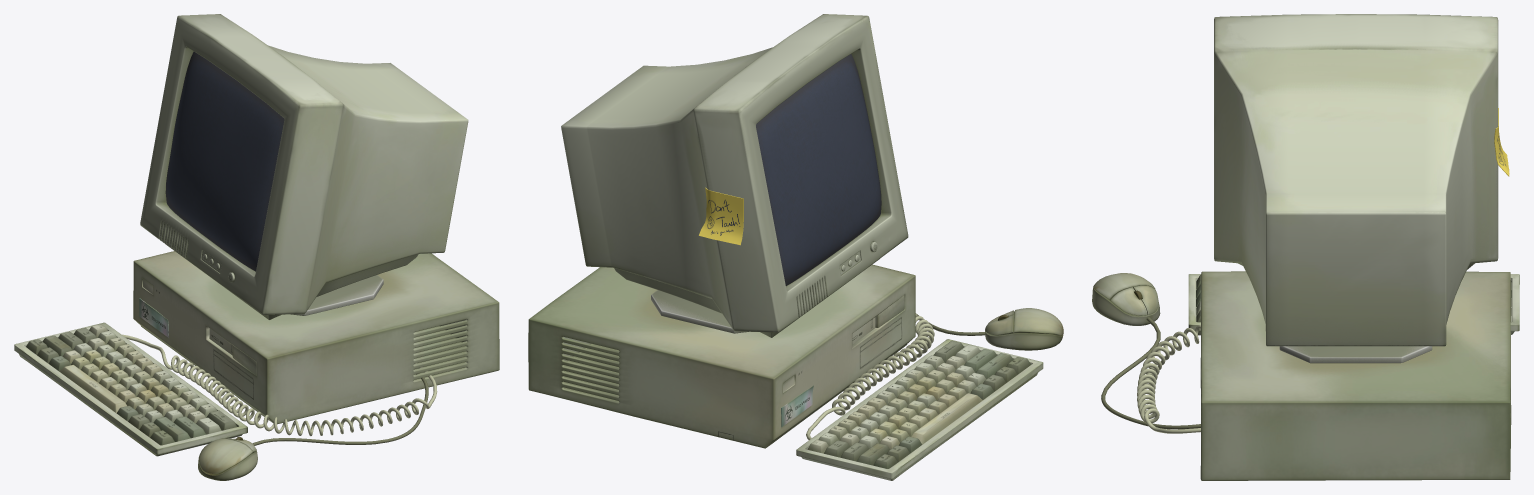
Rendered from retro_computer.glb.
3 views of the same model, side by side, from view 1: azimuth 30°, elevation 25°; view 2: azimuth 150°, elevation 25°; view 3: azimuth 270°, elevation 25° (orthographic). The views are drawn at different scales.
Visible parts, largest first — view 1: Cube.049, Cube.055, Cube.054, Plane.020, Cube.045, Circle.002, Cube.053, Plane.022, BézierCurve.006, Plane.023, Cube.057; view 2: Cube.049, Cube.055, Cube.054, Plane.020, Cube.045, Circle.002, StickyNote.016, Cube.053, Plane.023, Plane.022, Cube.057; view 3: Cube.049, Cube.055, Cube.053, Circle.002, Plane.021, Cube.045, Plane.023, BézierCurve.006, Plane.022.
Part boxes in pixels (bbox=[...]): Cube.049: bbox=[140, 14, 468, 319]; Cube.055: bbox=[133, 251, 499, 424]; Cube.054: bbox=[165, 51, 284, 271]; Plane.020: bbox=[26, 324, 237, 445]; Cube.045: bbox=[14, 322, 247, 456]; Circle.002: bbox=[122, 334, 437, 436]; Cube.053: bbox=[291, 275, 383, 315]; Plane.022: bbox=[198, 438, 252, 473]; BézierCurve.006: bbox=[252, 369, 428, 445]; Plane.023: bbox=[198, 450, 257, 480]; Cube.057: bbox=[139, 298, 168, 337]; Cube.049: bbox=[561, 14, 908, 337]; Cube.055: bbox=[528, 264, 915, 448]; Cube.054: bbox=[756, 54, 881, 285]; Plane.020: bbox=[807, 341, 1031, 468]; Cube.045: bbox=[796, 339, 1043, 480]; Circle.002: bbox=[806, 313, 934, 439]; StickyNote.016: bbox=[699, 187, 743, 245]; Cube.053: bbox=[651, 290, 748, 333]; Plane.023: bbox=[985, 330, 1063, 350]; Plane.022: bbox=[1014, 308, 1063, 335]; Cube.057: bbox=[781, 385, 813, 427]; Cube.049: bbox=[1214, 14, 1498, 346]; Cube.055: bbox=[1200, 271, 1511, 480]; Cube.053: bbox=[1279, 346, 1432, 363]; Circle.002: bbox=[1137, 325, 1200, 433]; Plane.021: bbox=[1110, 285, 1158, 315]; Cube.045: bbox=[1188, 274, 1519, 335]; Plane.023: bbox=[1092, 287, 1160, 325]; BézierCurve.006: bbox=[1101, 317, 1200, 429]; Plane.022: bbox=[1093, 273, 1155, 300].
Bounding box in the file's own units: 6.89 × 5.93 × 6.35.
9 materials, 7 textured.
